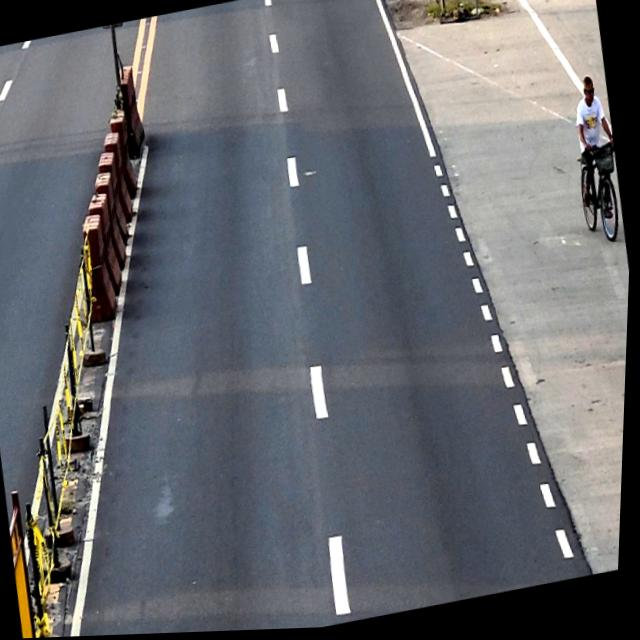Bicycle: (573, 144, 630, 254)
